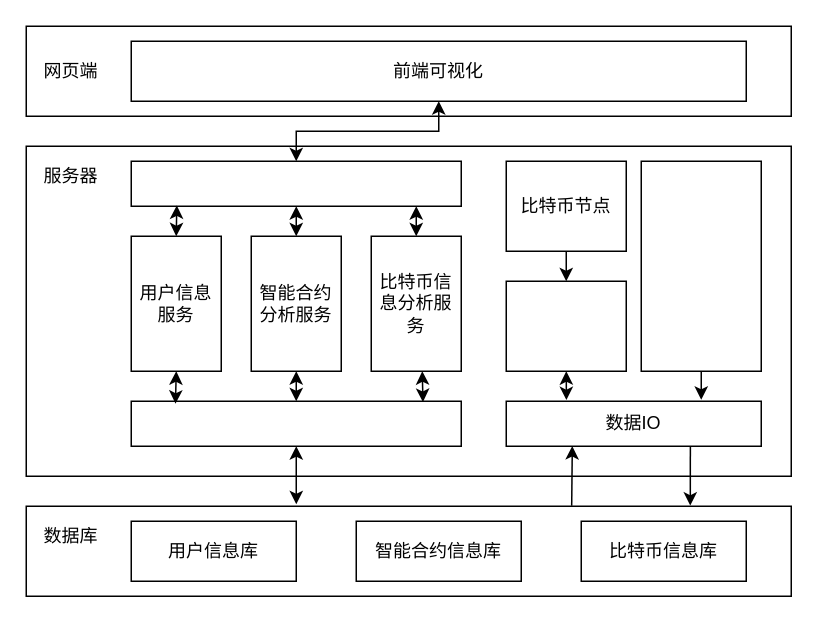
This 818x623 diagram has some shape labels left out. The centre of each missing label's shape, as x and y in pixels:
"HTTP接口" belongs at [295,183].
"合约信息获取" belongs at [700,265].
"持久层接口" belongs at [295,423].
"语义分析模型" belongs at [565,325].
